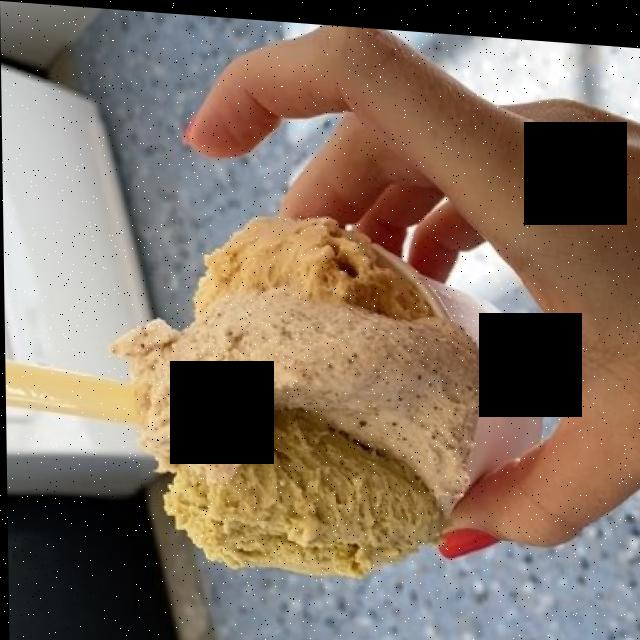dairy-ice-cream: (118, 222, 486, 563)
